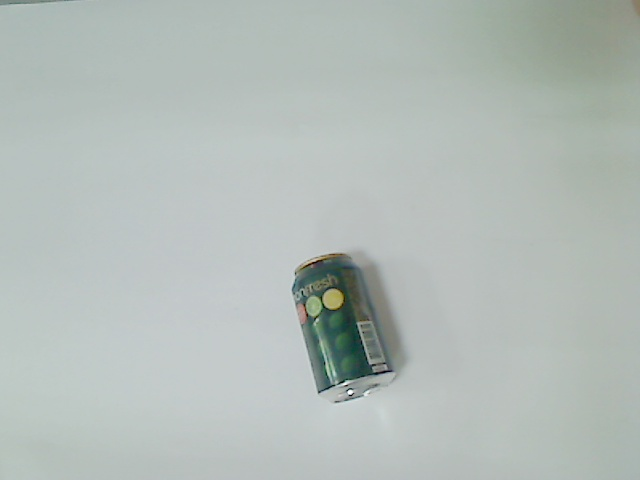can: (289, 251, 398, 405)
